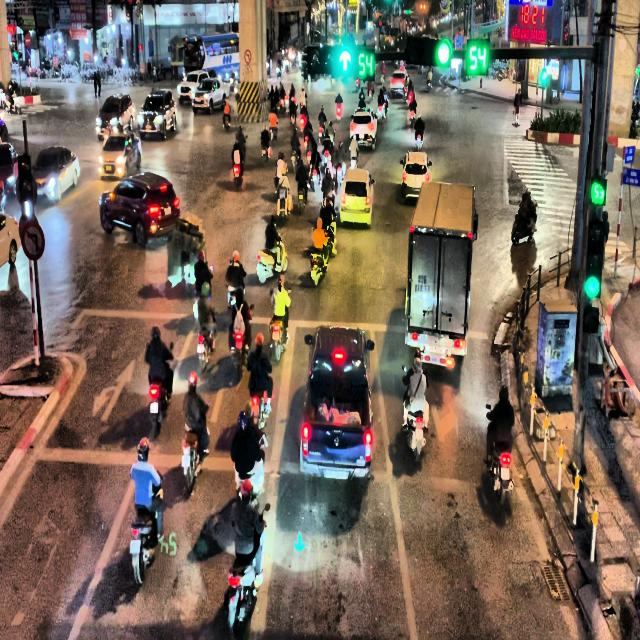lisence_plate: (411, 274, 434, 298), (321, 465, 349, 481), (424, 343, 447, 359), (162, 207, 173, 215), (351, 200, 359, 210), (360, 136, 366, 142)
